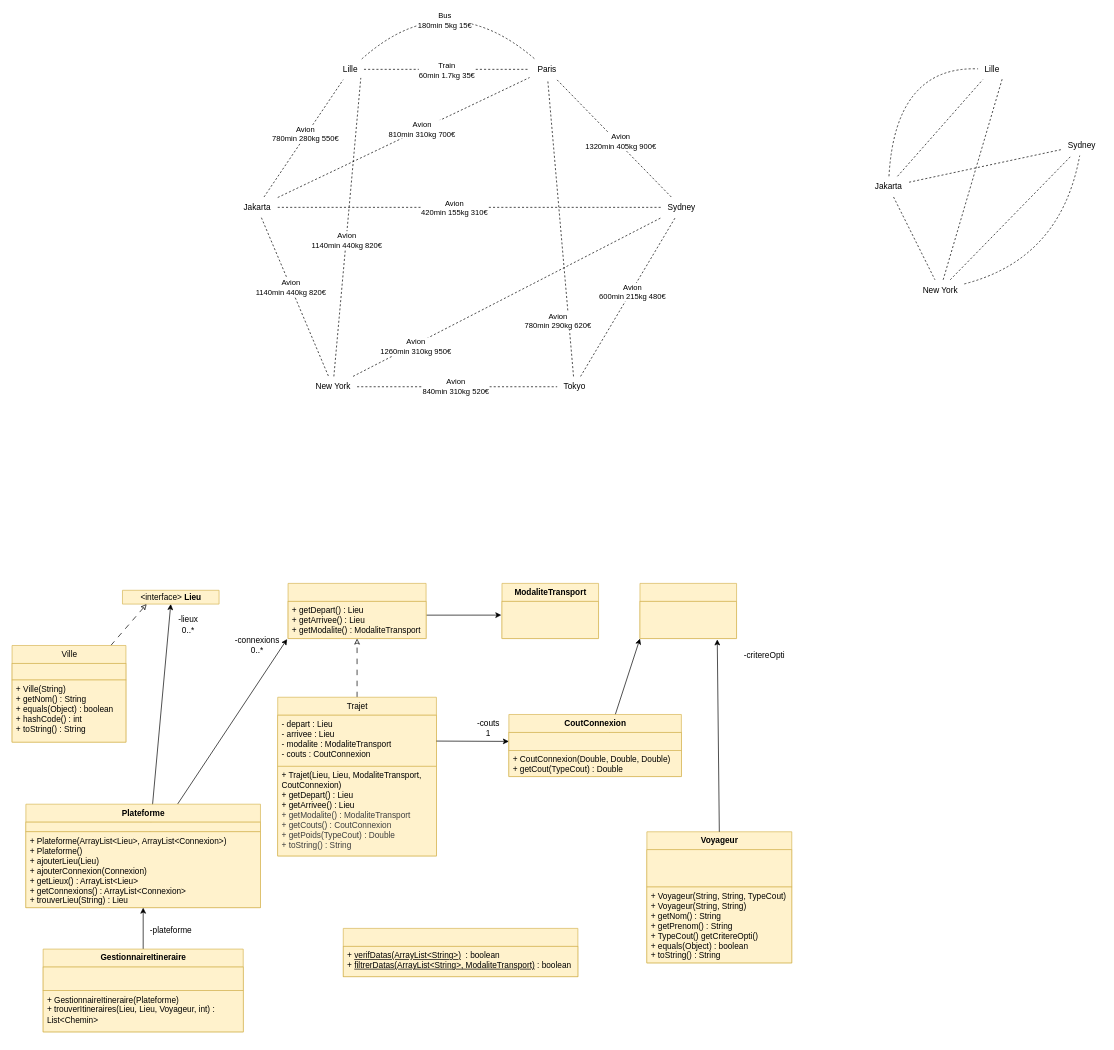
This 1114x1050 diagram has some shape labels left out. Here are the shapes that lost their labels. From the top down, the box of each, then its label:
(287, 583, 426, 639): Connexion
(501, 601, 599, 639): AVION TRAIN BUS
(639, 583, 737, 639): TypeCout
(639, 601, 737, 639): CO2 TEMPS PRIX
(11, 663, 126, 680): - nom : String
(508, 732, 681, 750): - coutConnexion : Map<TypeCout, Double>
(646, 849, 792, 887): - nom : String - prenom : String - critereOpti : TypeCout
(343, 928, 578, 977): TraitementDonee
